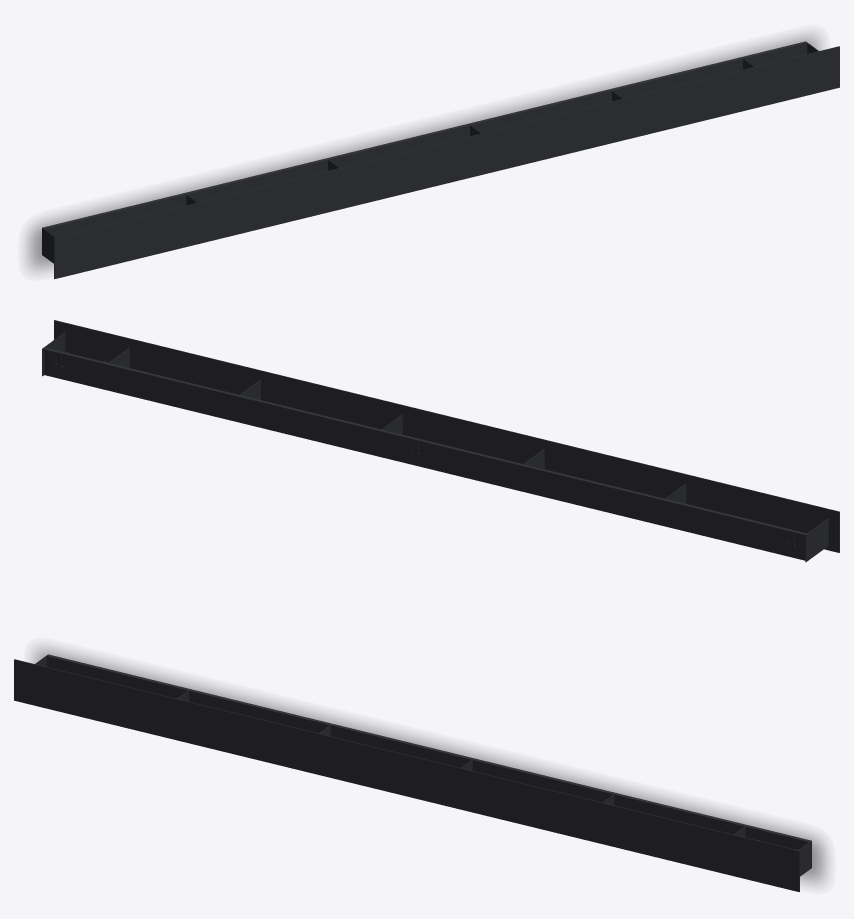
File: skyline-patron.cfc24aef24.ar.glb
3 views of the same model, one above another, from view 1: azimuth 30°, elevation 25°; view 2: azimuth 150°, elevation 25°; view 3: azimuth 330°, elevation 25° (orthographic).
Visible parts, largest first — view 1: NAUO1, object 2; view 2: NAUO1; view 3: NAUO1, object 2.
Part boxes in pixels (left/top/right/bottom): NAUO1: left=42, top=41, right=839, bottom=278; object 2: left=26, top=34, right=821, bottom=271; NAUO1: left=42, top=320, right=839, bottom=562; NAUO1: left=14, top=654, right=811, bottom=891; object 2: left=32, top=647, right=827, bottom=884.
Size of the model in its own units: 1.88 by 0.17 by 0.092.
2 materials, 1 textured.
